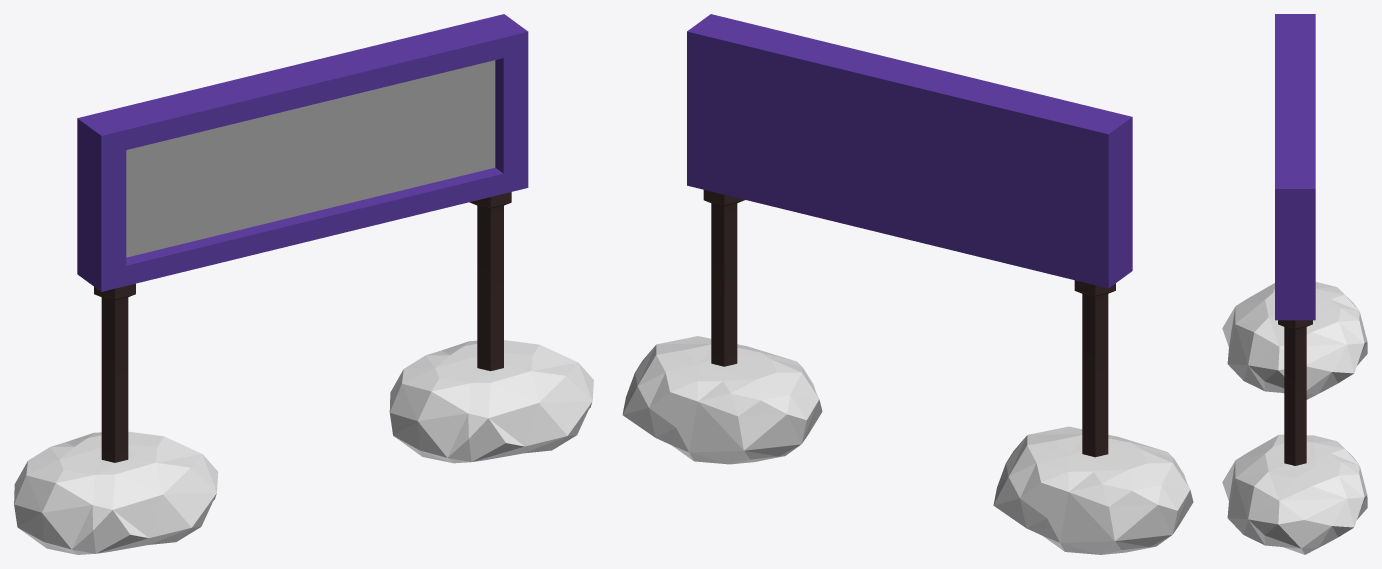
File: sign.fbx
3 views of the same model, side by side, from view 1: azimuth 30°, elevation 25°; view 2: azimuth 150°, elevation 25°; view 3: azimuth 270°, elevation 25° (orthographic). The views are drawn at different scales.
Visible parts, largest first — view 1: sign, cloud_base, cloud_base1, post1, post; view 2: sign, cloud_base, cloud_base1, post1, post; view 3: sign, cloud_base, cloud_base1, post.
Part boxes in pixels (x1,y1,x2,y2): sign: (77, 14, 528, 291); cloud_base: (389, 340, 593, 463); cloud_base1: (14, 431, 218, 554); post1: (94, 283, 135, 462); post: (469, 192, 511, 371); sign: (687, 14, 1132, 288); cloud_base: (622, 336, 822, 464); cloud_base1: (993, 426, 1193, 554); post1: (1074, 280, 1115, 457); post: (703, 190, 744, 366); sign: (1275, 14, 1315, 320); cloud_base: (1222, 434, 1367, 554); cloud_base1: (1222, 282, 1367, 399); post: (1278, 320, 1312, 465).
Size of the model in its own units: 149 by 107 by 39.9.
